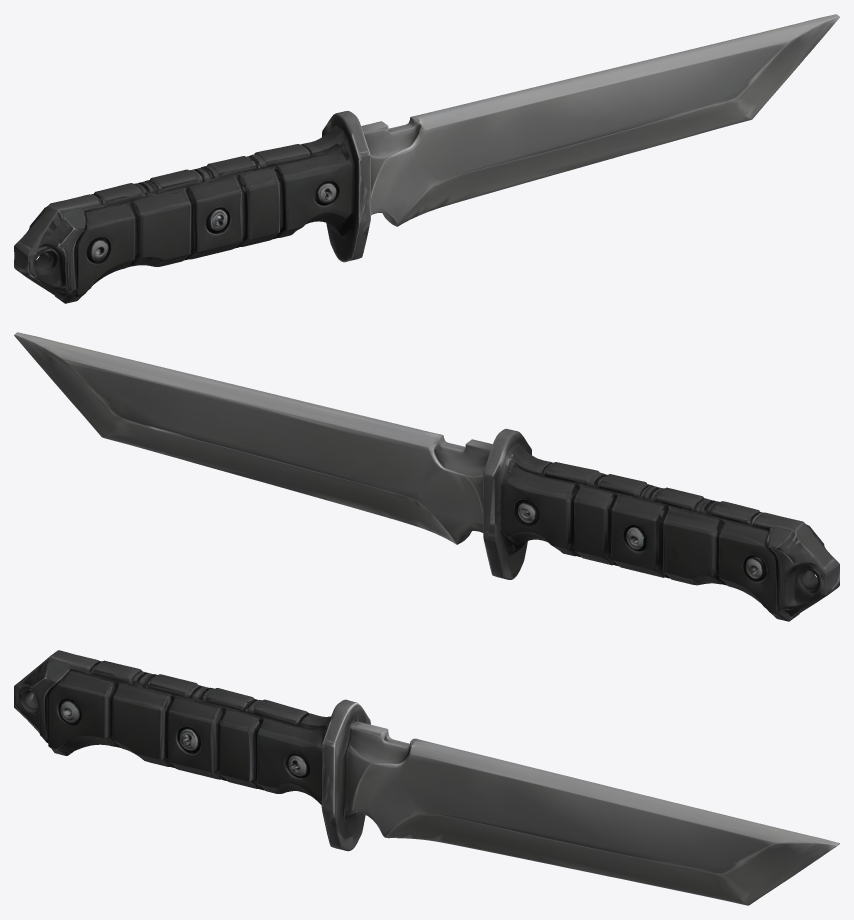
Rendered from knife_straight.glb.
3 views of the same model, one above another, from view 1: azimuth 30°, elevation 25°; view 2: azimuth 150°, elevation 25°; view 3: azimuth 330°, elevation 25° (orthographic).
Parts seen in each view (by area): view 1: knife_mesh; view 2: knife_mesh; view 3: knife_mesh.
Boxes of the visible parts, bbox=[...] form: knife_mesh: bbox=[14, 14, 839, 303]; knife_mesh: bbox=[14, 332, 839, 621]; knife_mesh: bbox=[14, 650, 839, 905].
Bounding box in the file's own units: 1.19 × 0.2027 × 0.0938.
1 material, 1 textured.
